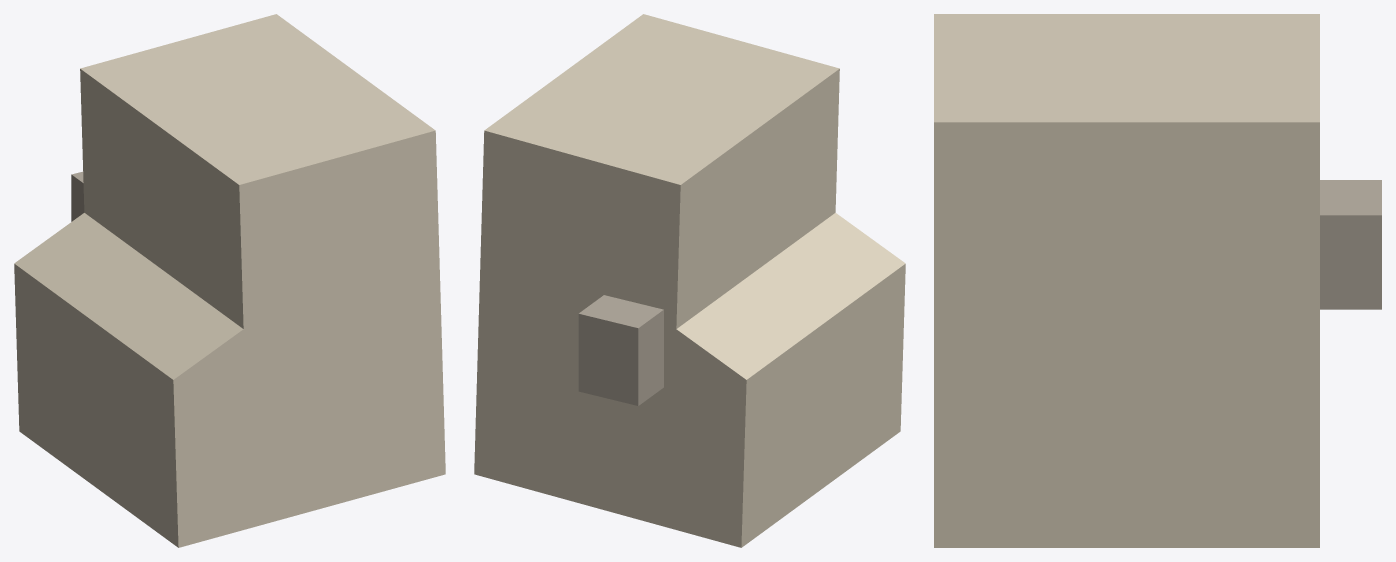
The model's file is historic-palestine-14_29_3556_3233.glb.
3 views of the same model, side by side, from view 1: azimuth 30°, elevation 25°; view 2: azimuth 150°, elevation 25°; view 3: azimuth 270°, elevation 25° (orthographic). The views are drawn at different scales.
Visible parts, largest first — view 1: Building_, Roof access hut; view 2: Building_, Roof access hut; view 3: Building_, Roof access hut.
Part boxes in pixels (left/top/right/bottom): Building_: left=14, top=14, right=445, bottom=547; Roof access hut: left=71, top=171, right=84, bottom=221; Building_: left=474, top=14, right=905, bottom=547; Roof access hut: left=578, top=295, right=663, bottom=405; Building_: left=934, top=14, right=1319, bottom=547; Roof access hut: left=1320, top=180, right=1381, bottom=309.
Bounding box in the file's own units: 7.41 × 9.22 × 8.7.
